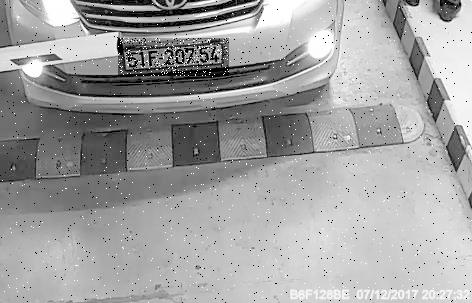License-plate: (119, 39, 230, 77)
